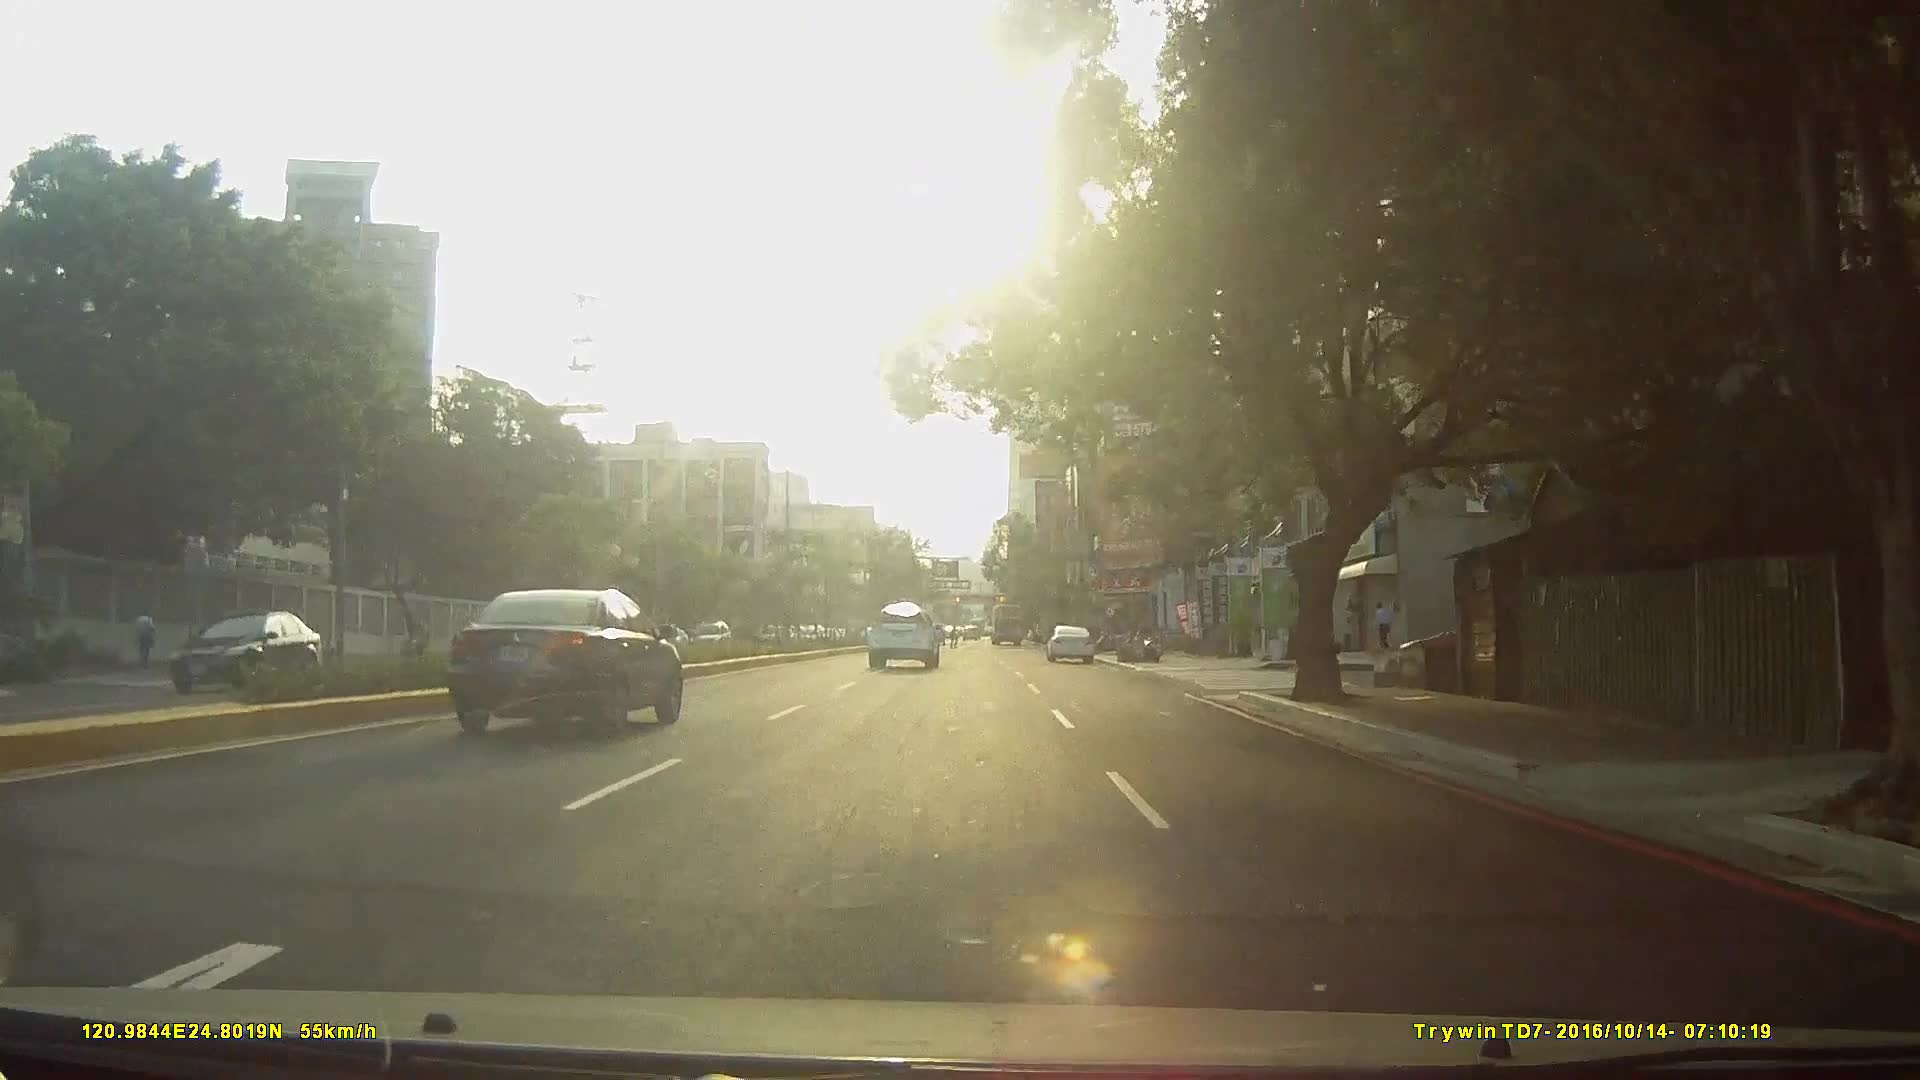pedestrian: (137, 607, 158, 671), (1374, 602, 1394, 653)
vehicle: (448, 590, 685, 745), (161, 607, 332, 701), (865, 602, 942, 672), (1044, 625, 1095, 666), (986, 605, 1026, 650)
